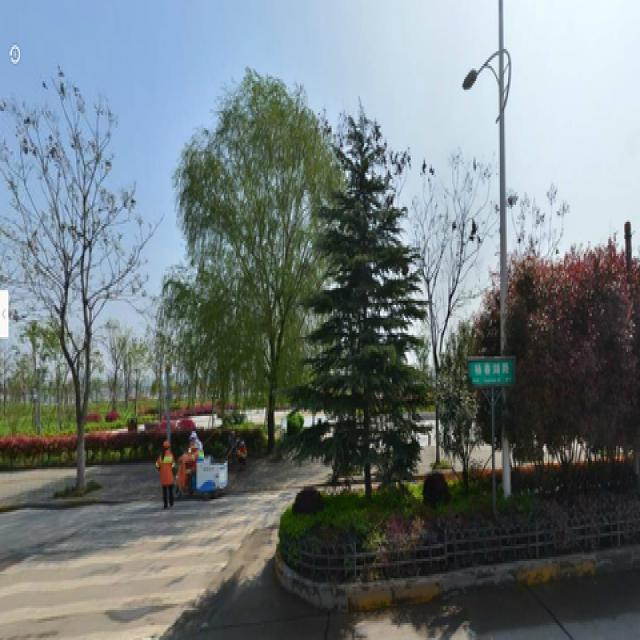cedr: (318, 115, 422, 497)
plat: (171, 68, 305, 461)
